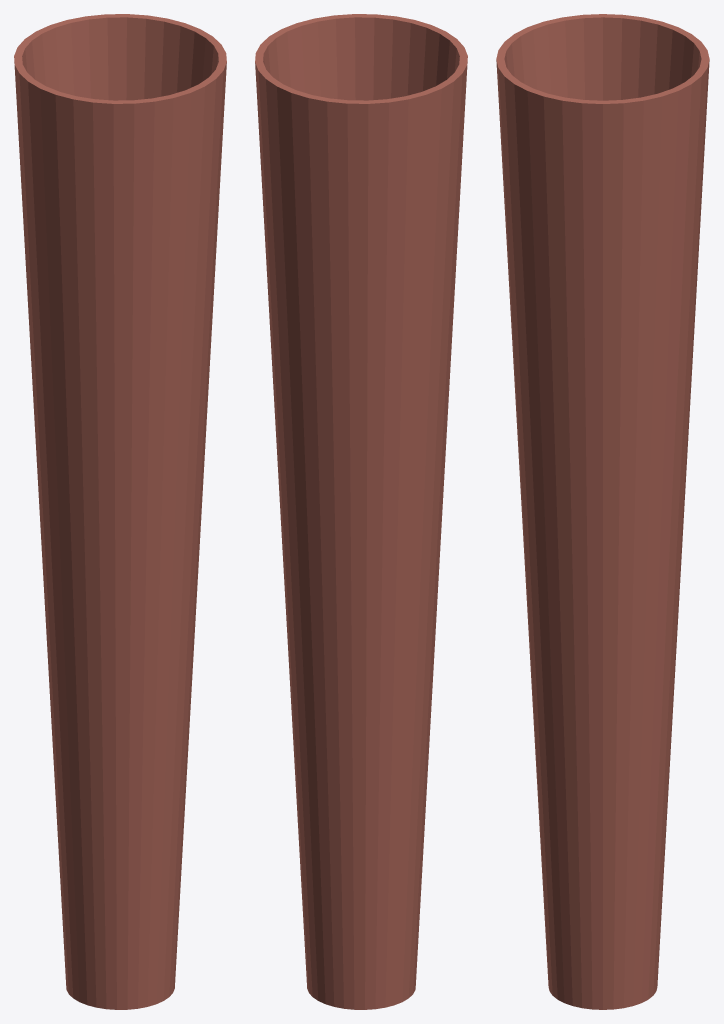
Rendered from yanhuatong01.glb.
3 renders of one model, left to right at view 1: azimuth 30°, elevation 25°; view 2: azimuth 150°, elevation 25°; view 3: azimuth 270°, elevation 25°, orthographic.
Visible parts, largest first — view 1: yanhuatong; view 2: yanhuatong; view 3: yanhuatong.
Boxes of the visible parts, x1,y1,x2,y2 form: yanhuatong: (14,14,226,1009); yanhuatong: (255,14,467,1009); yanhuatong: (496,14,709,1009).
Size of the model in its own units: 0.5 by 2.4 by 0.5.
